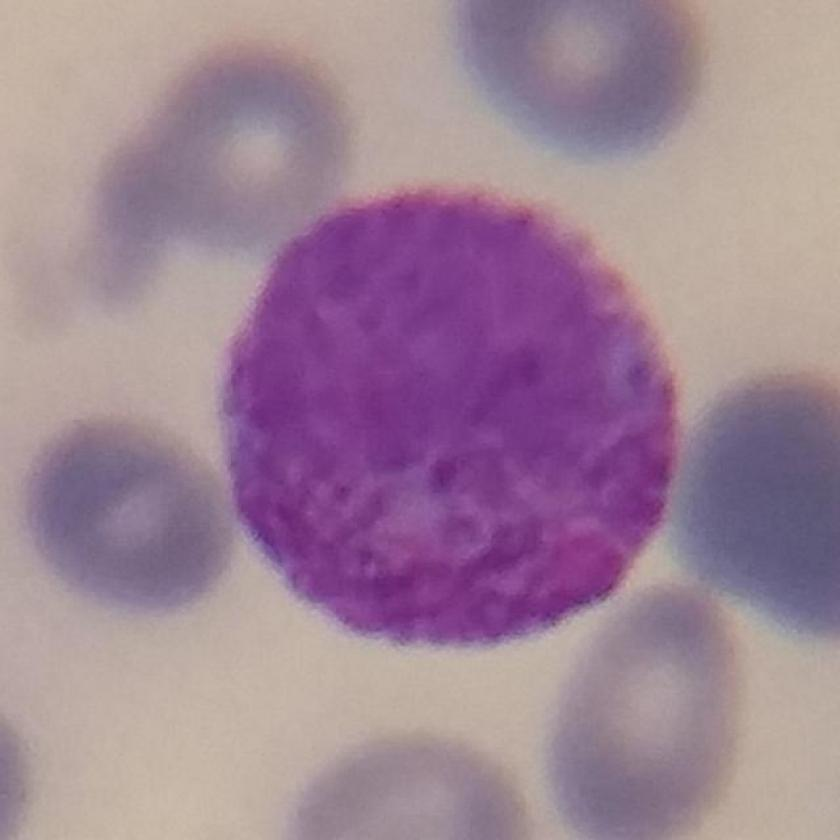basophil: (211, 180, 686, 658)
